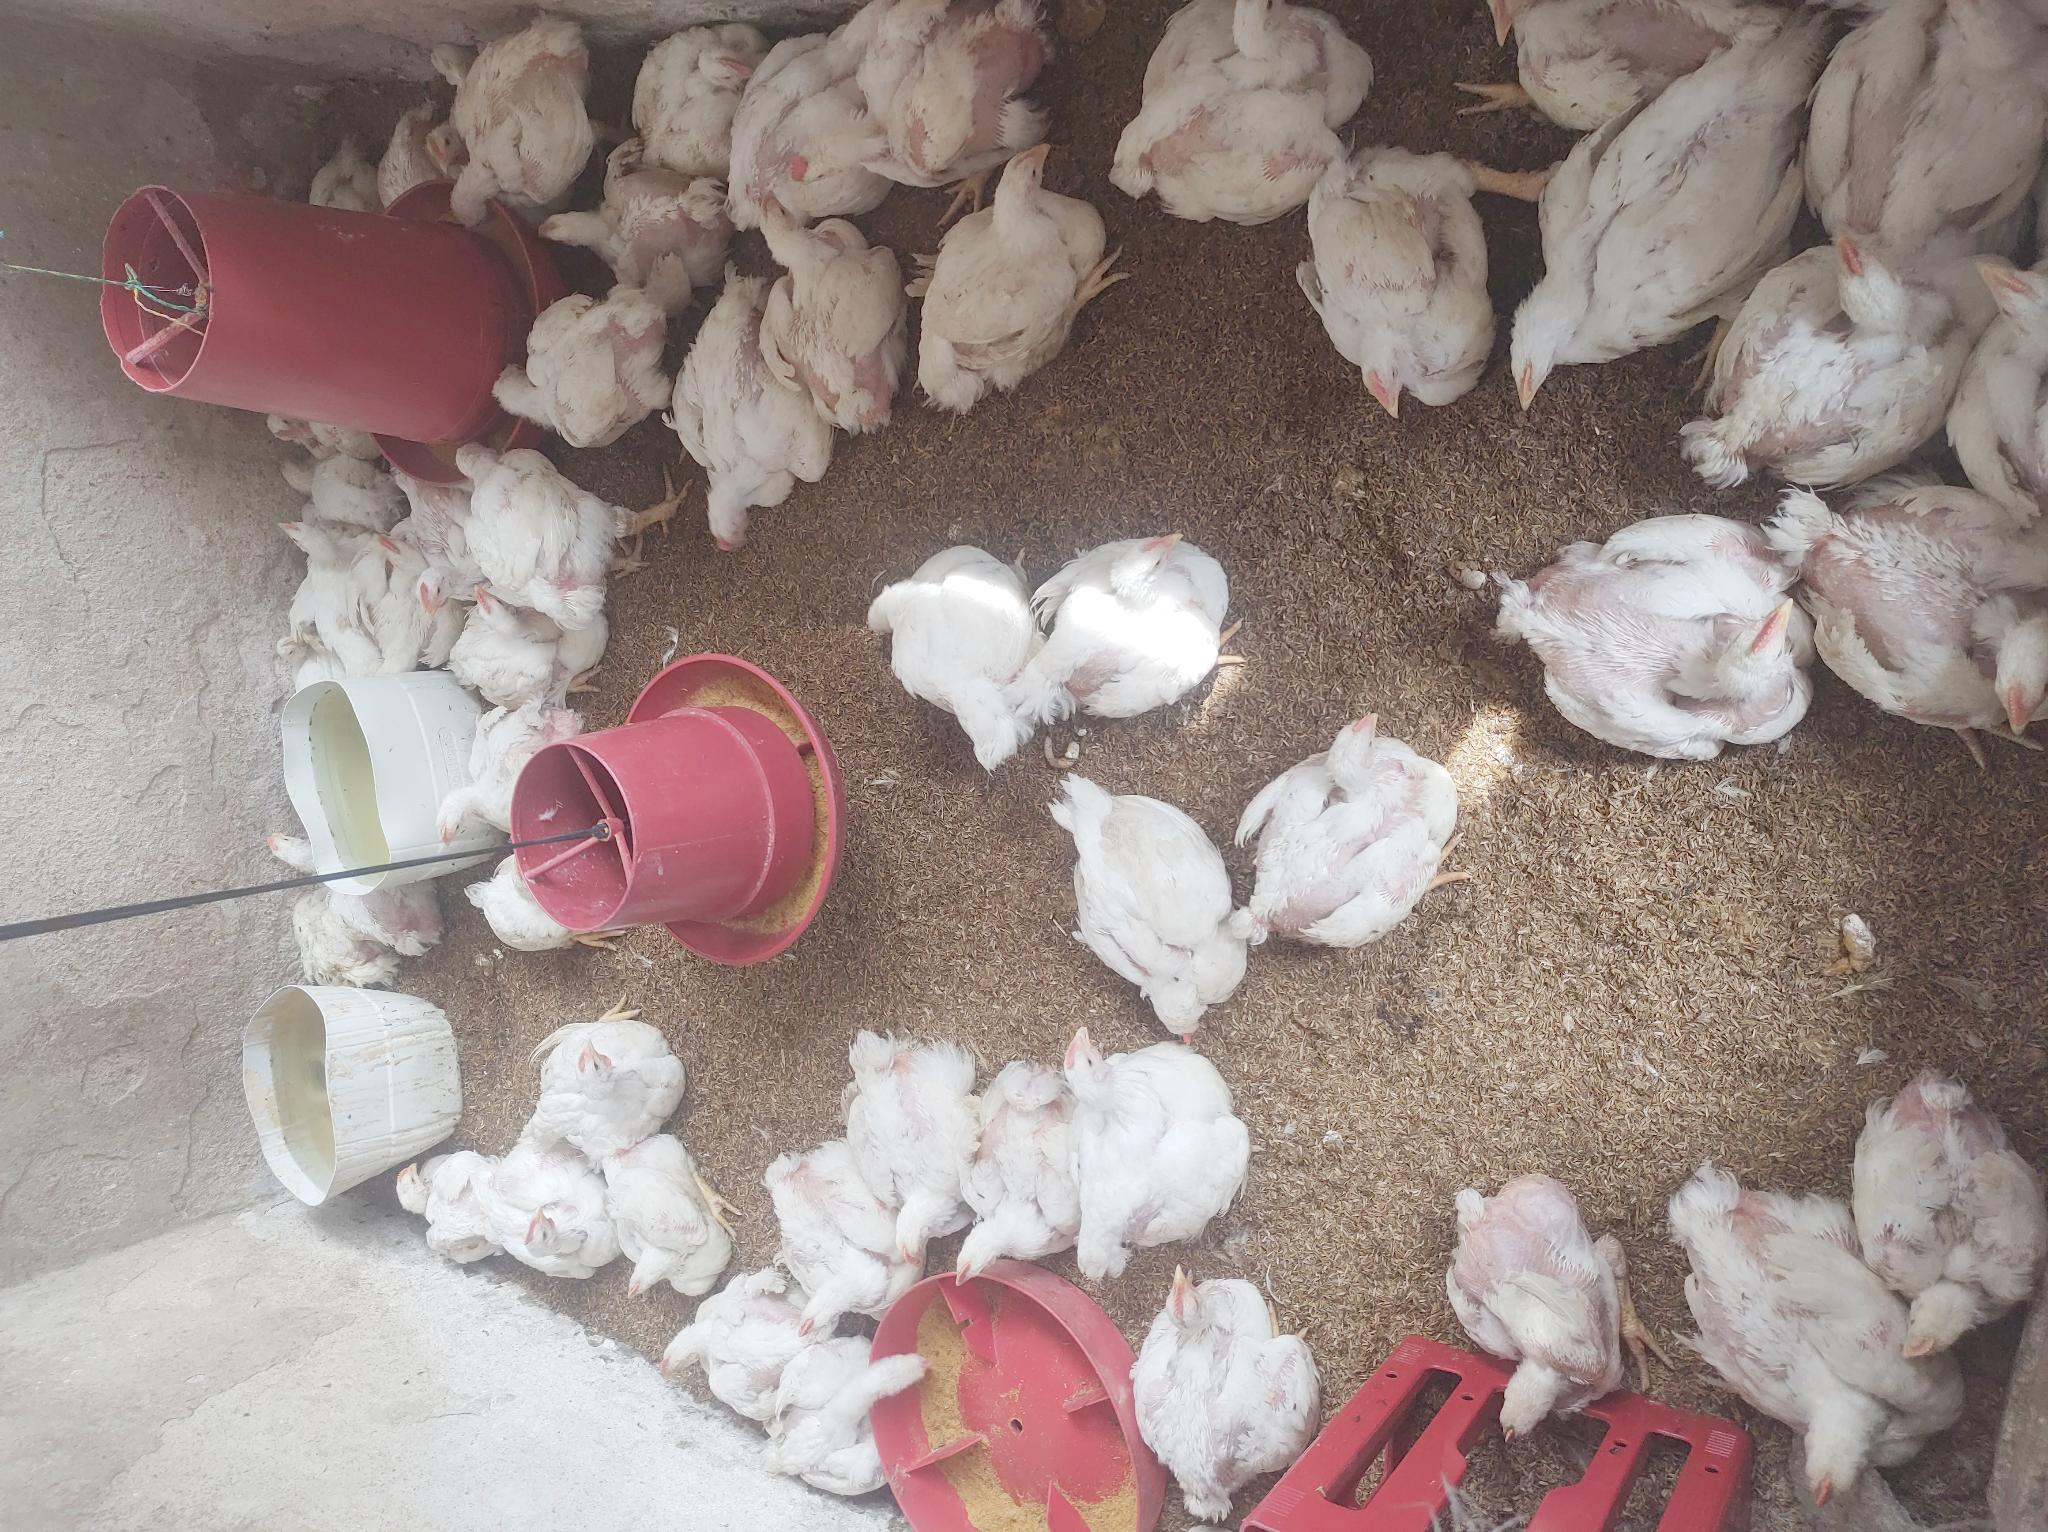Pollos: (1504, 60, 1828, 414), (1680, 1186, 1961, 1519), (1504, 504, 1815, 776), (1797, 451, 2048, 763), (1791, 0, 2045, 275), (1704, 222, 1951, 491), (1276, 148, 1504, 423), (1236, 698, 1464, 964), (1108, 0, 1363, 225), (914, 143, 1125, 410), (1445, 1173, 1659, 1431), (1118, 1263, 1335, 1508), (1866, 1069, 2048, 1352), (1063, 1019, 1263, 1273), (1041, 784, 1256, 1011), (859, 526, 1051, 772), (1007, 513, 1239, 711), (661, 303, 819, 568), (738, 188, 914, 423), (436, 13, 611, 222), (846, 6, 1044, 191), (1474, 0, 1723, 142), (238, 826, 439, 1001), (763, 1146, 940, 1329), (533, 134, 729, 296), (479, 282, 671, 447), (952, 1069, 1097, 1283), (722, 18, 877, 216), (483, 438, 644, 624), (735, 1337, 930, 1485), (856, 1025, 988, 1236), (590, 1139, 738, 1316), (528, 998, 689, 1155), (423, 706, 590, 858), (1955, 217, 2045, 494), (436, 587, 594, 716), (492, 1143, 615, 1297), (668, 1263, 796, 1408), (621, 24, 742, 175), (214, 433, 402, 525), (380, 1122, 491, 1260), (460, 843, 581, 969), (405, 467, 497, 615), (248, 512, 365, 587), (365, 108, 433, 229), (265, 389, 381, 457), (298, 130, 376, 216), (257, 628, 331, 702), (433, 101, 483, 188), (372, 521, 439, 578)
